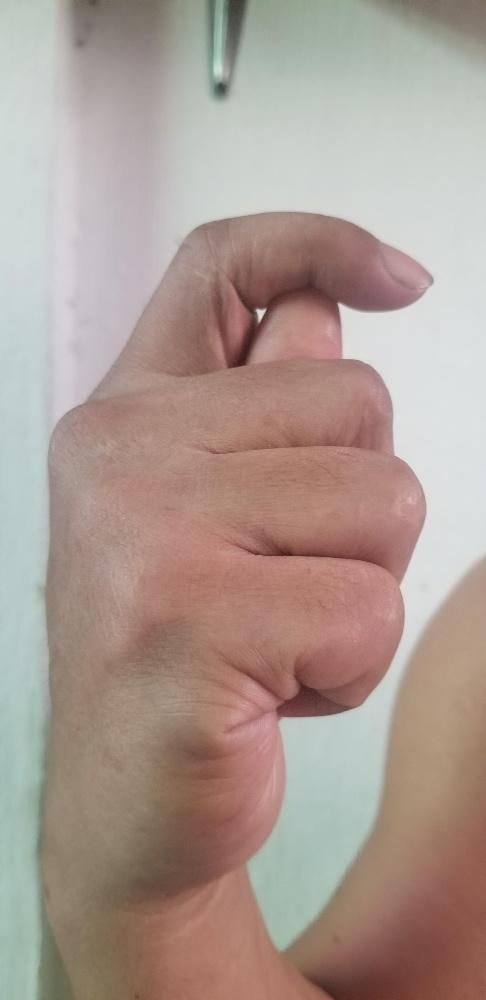t: (43, 208, 433, 883)
